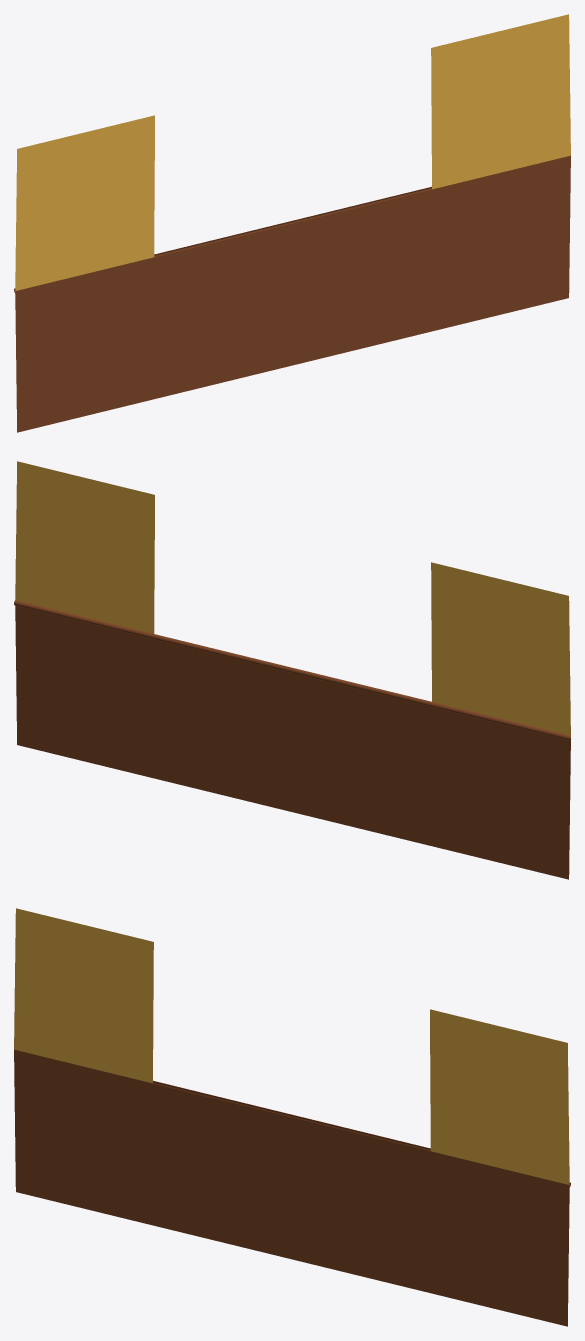
Rendered from CinemaWandFenster.fbx.
The picture shows the model from 3 angles, top to bottom: view 1: azimuth 30°, elevation 25°; view 2: azimuth 150°, elevation 25°; view 3: azimuth 330°, elevation 25°; orthographic projection.
Visible parts, largest first — view 1: WandFenster; view 2: WandFenster; view 3: WandFenster.
Boxes of the visible parts, left/top/right/bottom form: WandFenster: left=14, top=14, right=570, bottom=432; WandFenster: left=14, top=461, right=570, bottom=879; WandFenster: left=14, top=908, right=570, bottom=1326.
Bounding box in the file's own units: 1014 × 495 × 4.45.
